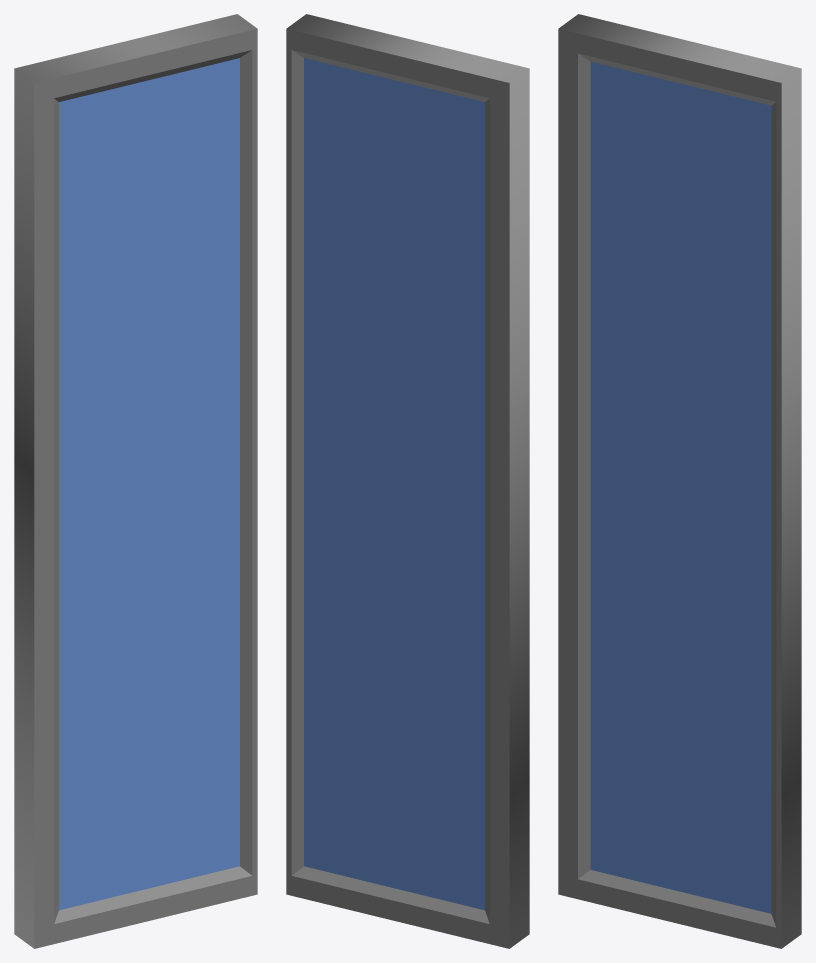
The model's file is ENV_Windows_Right.fbx.
3 views of the same model, side by side, from view 1: azimuth 30°, elevation 25°; view 2: azimuth 150°, elevation 25°; view 3: azimuth 330°, elevation 25° (orthographic).
Visible parts, largest first — view 1: ENV_Windows_Right; view 2: ENV_Windows_Right; view 3: ENV_Windows_Right.
Part boxes in pixels (x1=…): ENV_Windows_Right: x1=14, y1=14, x2=257, y2=948; ENV_Windows_Right: x1=286, y1=14, x2=529, y2=948; ENV_Windows_Right: x1=558, y1=14, x2=801, y2=948.
Bounding box in the file's own units: 52.81 × 196 × 8.23.
